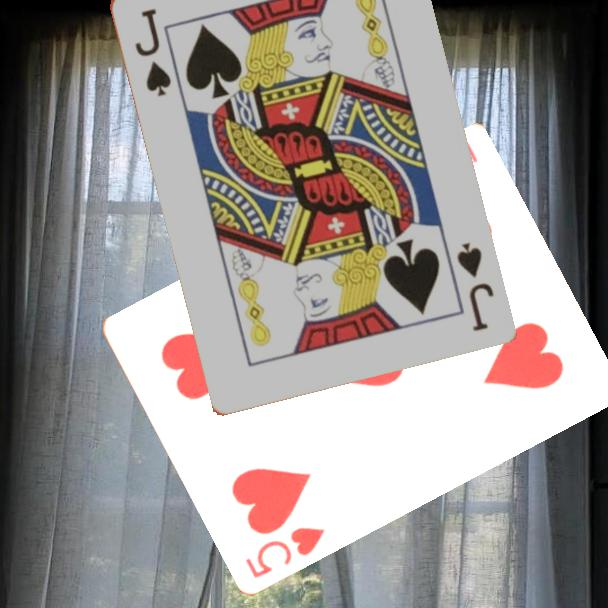h05: (242, 522, 328, 581)
s11: (130, 4, 174, 100), (452, 238, 496, 334)
